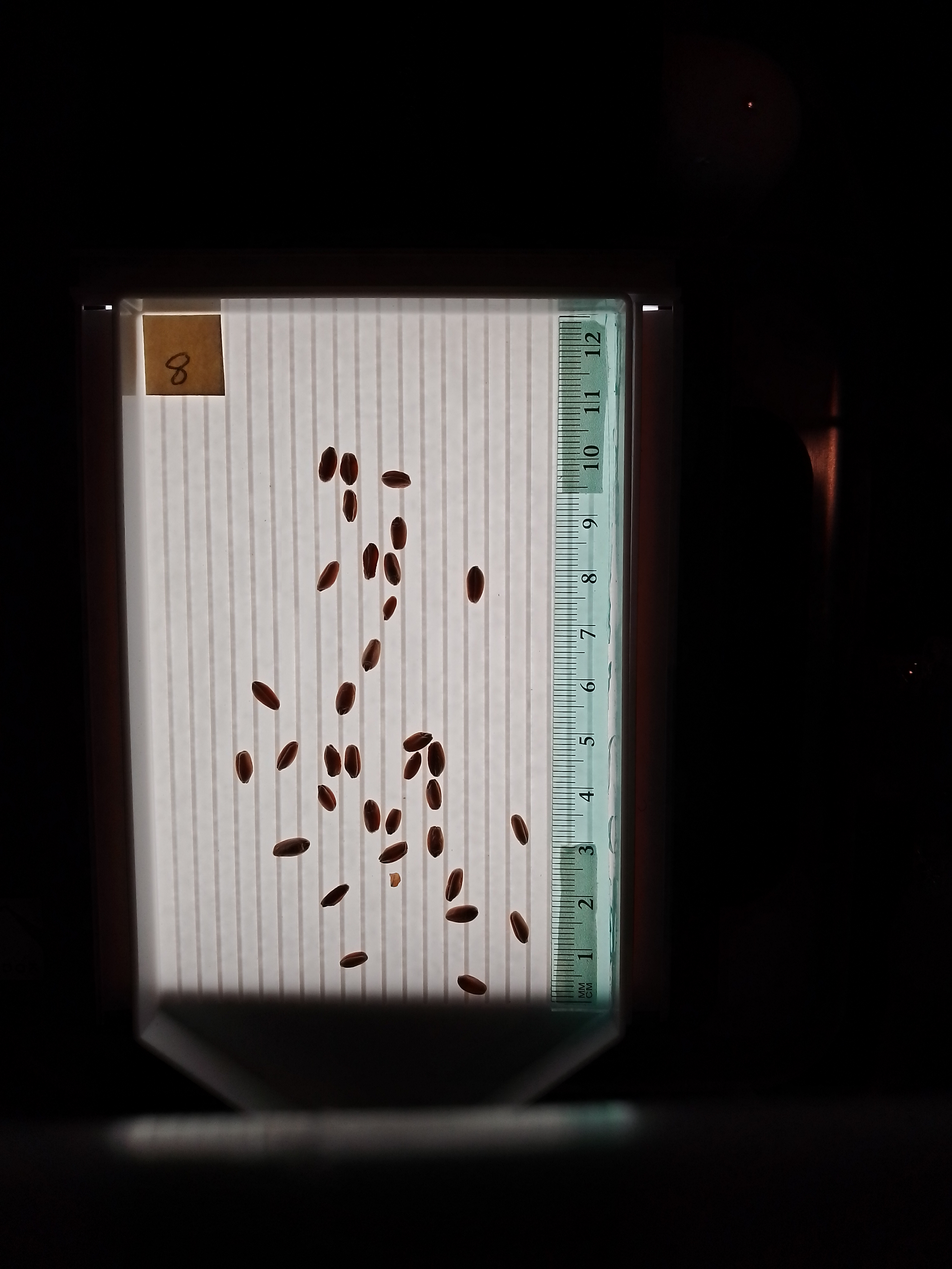seed mask: (252, 682, 280, 710), (317, 561, 340, 591), (274, 838, 310, 857), (466, 566, 484, 603), (321, 884, 348, 908), (427, 742, 445, 777), (361, 640, 381, 671), (335, 683, 355, 714), (276, 742, 298, 770), (319, 447, 337, 481), (403, 732, 432, 753), (510, 912, 529, 944), (362, 544, 379, 579), (380, 842, 407, 864), (363, 799, 381, 832), (446, 869, 464, 901), (324, 745, 342, 777), (344, 745, 361, 778), (458, 975, 486, 995), (511, 814, 529, 845), (446, 905, 477, 923), (235, 752, 253, 783), (340, 454, 358, 484), (427, 826, 444, 857), (384, 554, 401, 585), (391, 517, 407, 549), (382, 471, 410, 489), (318, 786, 336, 812), (426, 781, 442, 810), (343, 490, 357, 522), (404, 753, 421, 779), (340, 952, 367, 968), (385, 809, 401, 833), (383, 597, 397, 620)
